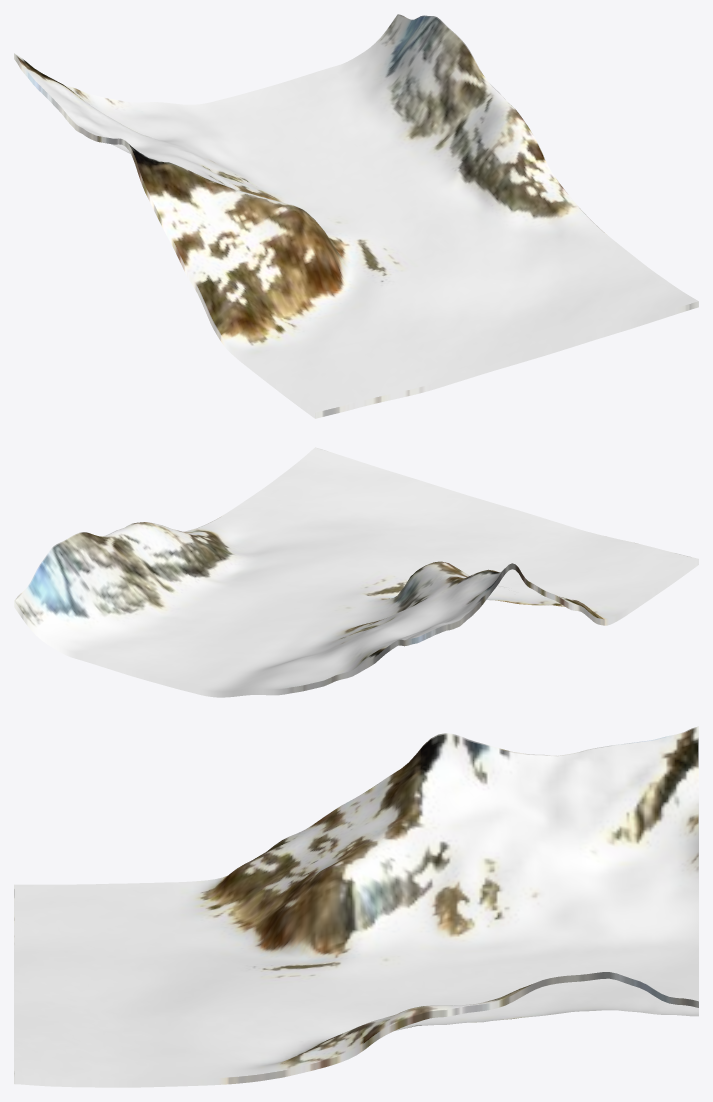
3 views of the same model, one above another, from view 1: azimuth 30°, elevation 25°; view 2: azimuth 150°, elevation 25°; view 3: azimuth 270°, elevation 25° (orthographic). The views are drawn at different scales.
Visible parts, largest first — view 1: tile; view 2: tile; view 3: tile.
Boxes of the visible parts, x1,y1,x2,y2 form: tile: (14, 14, 698, 418); tile: (14, 447, 698, 697); tile: (14, 726, 698, 1087).
Bounding box in the file's own units: 2025 × 734 × 2752.
1 material, 1 textured.
